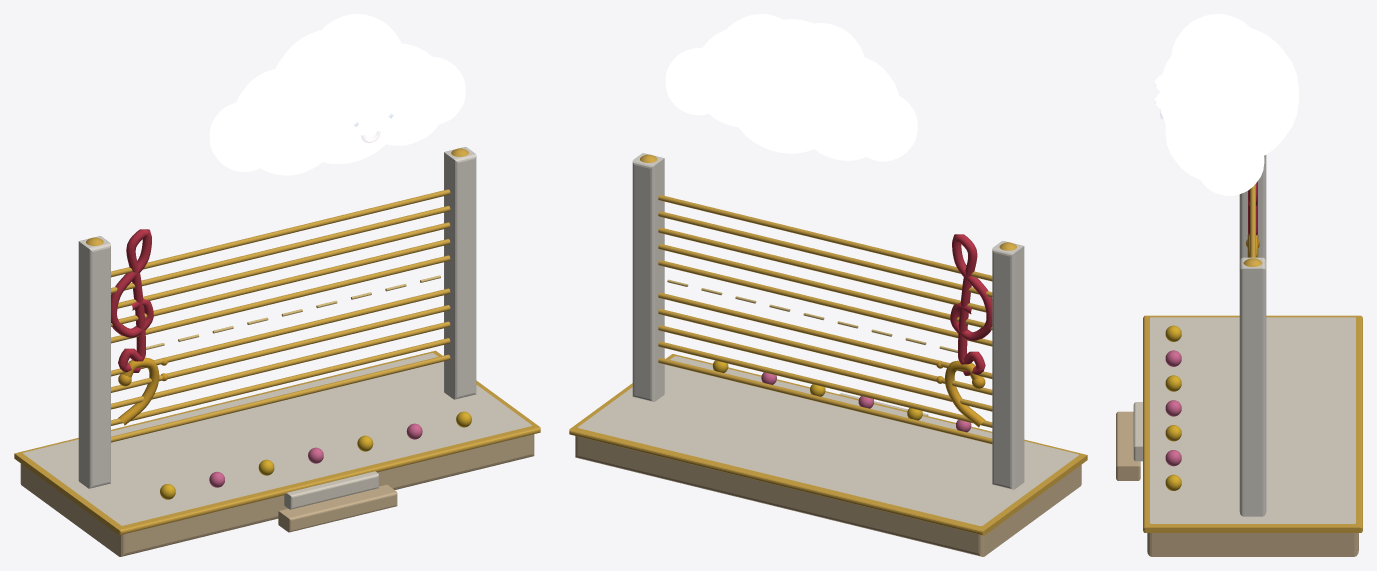
Rendered from staffCloud.glb.
The picture shows the model from 3 angles, left to right: view 1: azimuth 30°, elevation 25°; view 2: azimuth 150°, elevation 25°; view 3: azimuth 270°, elevation 25°; orthographic projection. The views are drawn at different scales.
Parts seen in each view (by area): view 1: part_000, part_001; view 2: part_000, part_001; view 3: part_000, part_001.
Boxes of the visible parts, bbox=[...] form: part_000: bbox=[14, 147, 540, 556]; part_001: bbox=[209, 14, 465, 175]; part_000: bbox=[569, 153, 1087, 556]; part_001: bbox=[665, 14, 917, 161]; part_000: bbox=[1116, 155, 1362, 556]; part_001: bbox=[1154, 14, 1298, 195].
Size of the model in its own units: 8.54 by 8.5 by 4.2.
